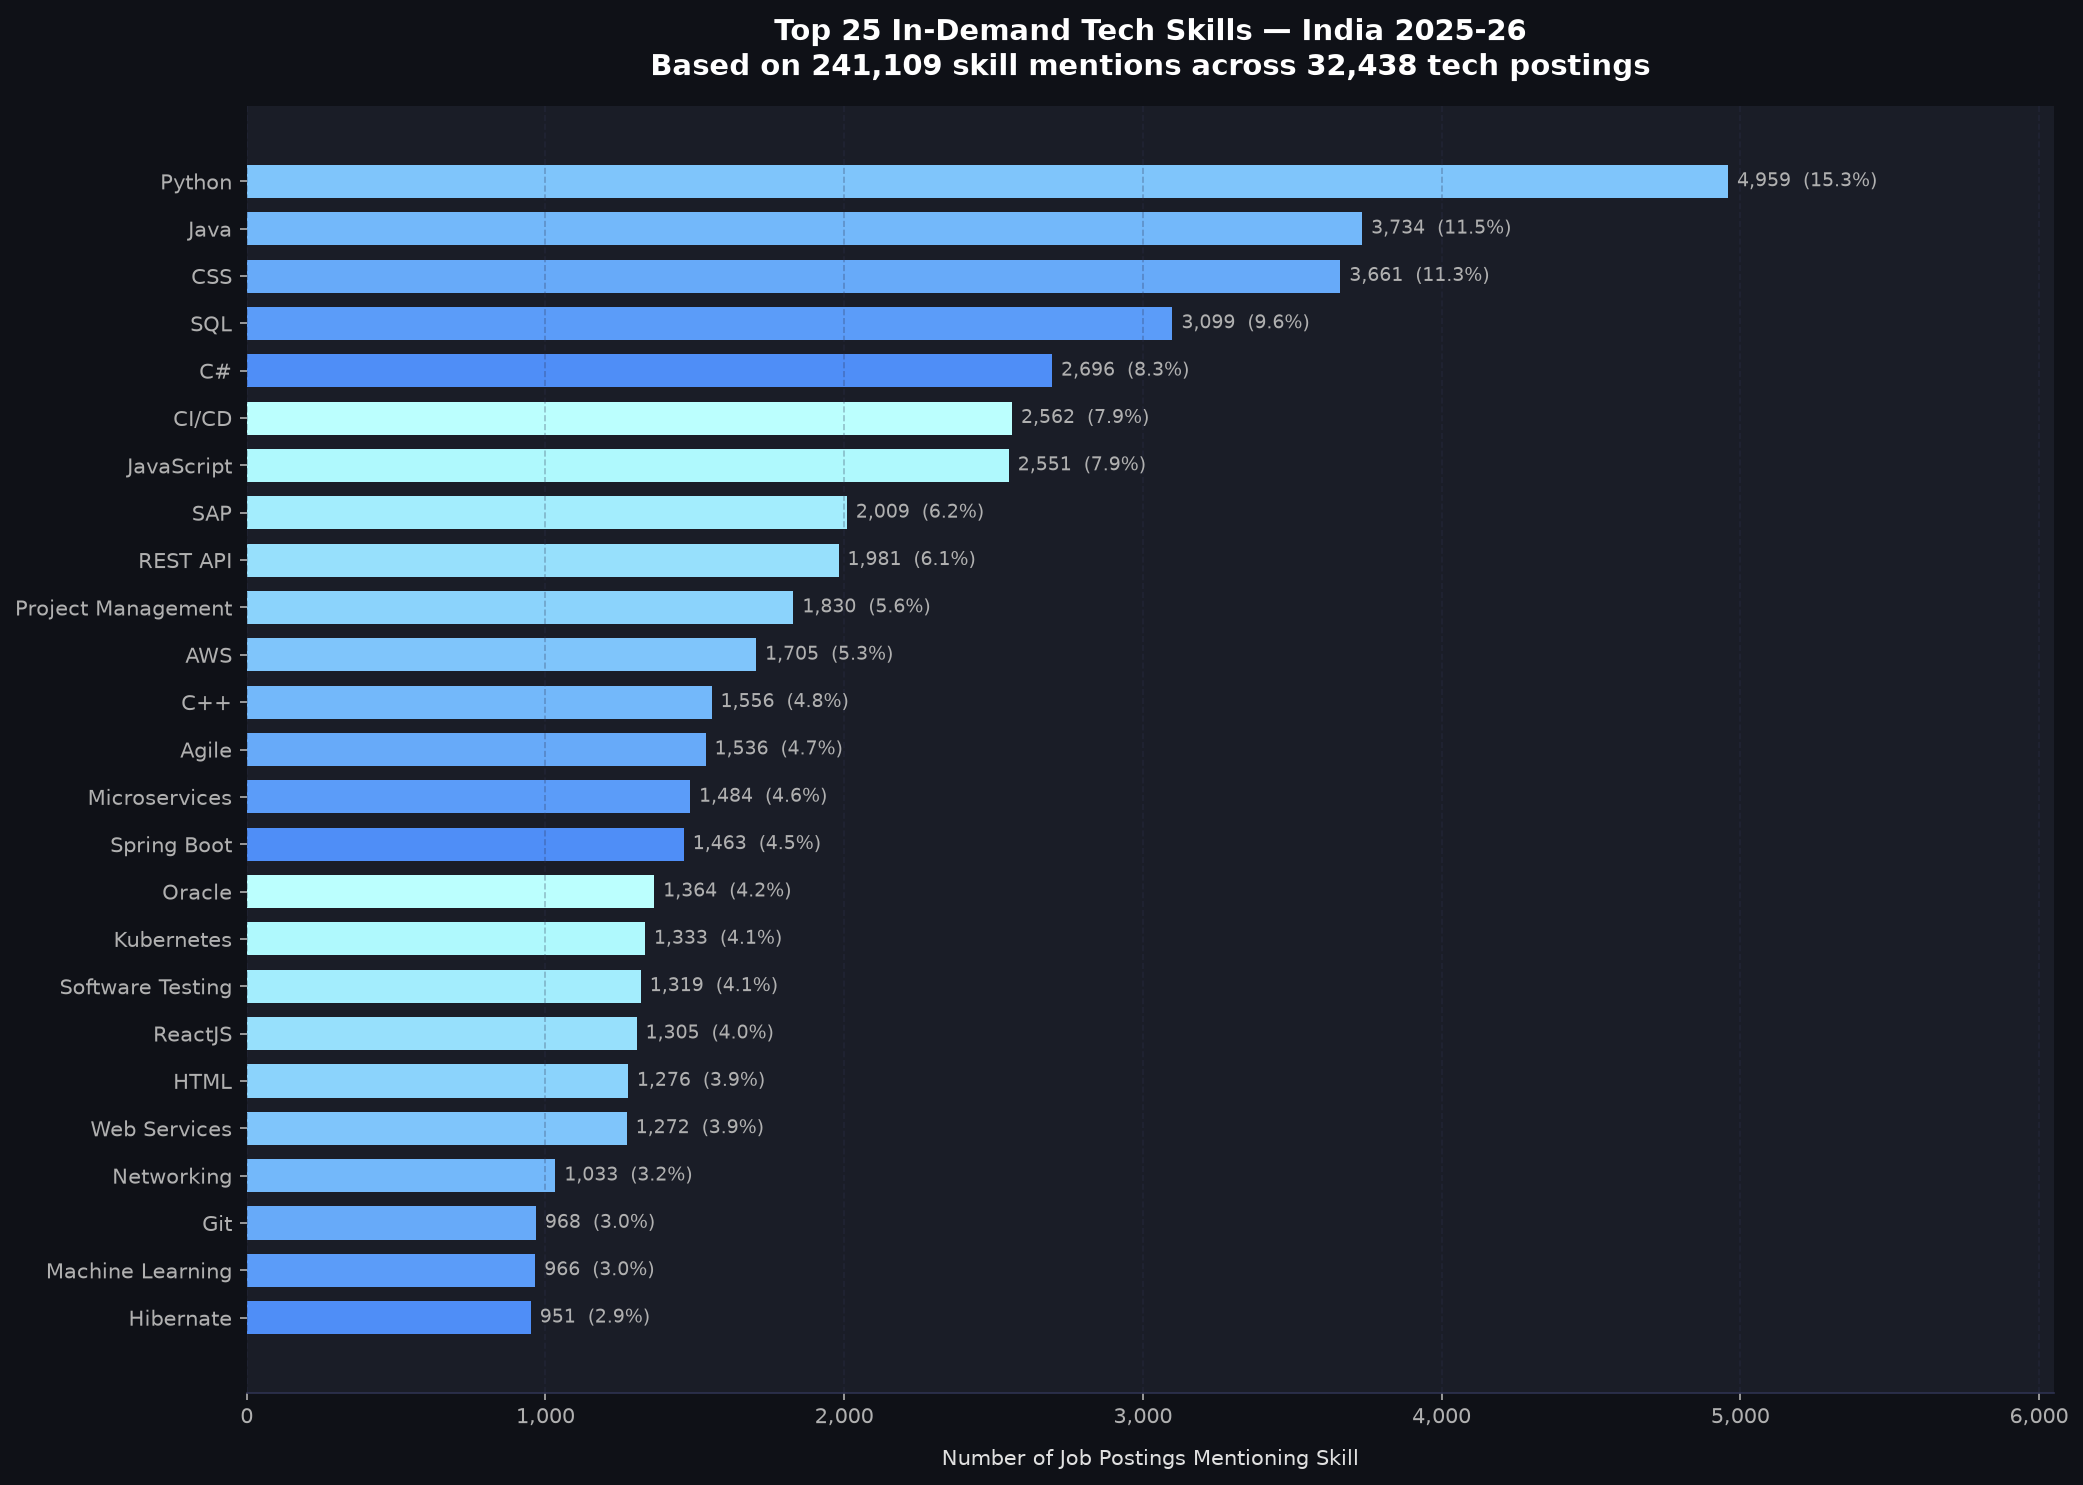

The page's visual inventory and layout, read from the dashboard file:
{"tool":"powerbi","page":{"name":"Skill Intelligence","canvas":[1280,720],"ordinal":1},"visuals":[{"type":"clusteredBarChart","title":"Top 20 In-Demand Tech Skills","fields":{"Category":["skills_for_powerbi.skill"],"Y":["CountNonNull(skills_for_powerbi.skill)"]},"box":[37.7,120.8,475.5,576.1],"z":0},{"type":"textbox","box":[317,20.1,646.5,40.3],"z":1}]}

Visuals, with their boxes on the page's 1280x720 design canvas (x1, y1, x2, y2). These are canvas units, not pixel positions in the 2083x1485 screenshot, which may show the page scaled, cropped or inside an application window:
"Top 20 In-Demand Tech Skills" clusteredBarChart: (38,121,513,697)
textbox: (317,20,964,60)
